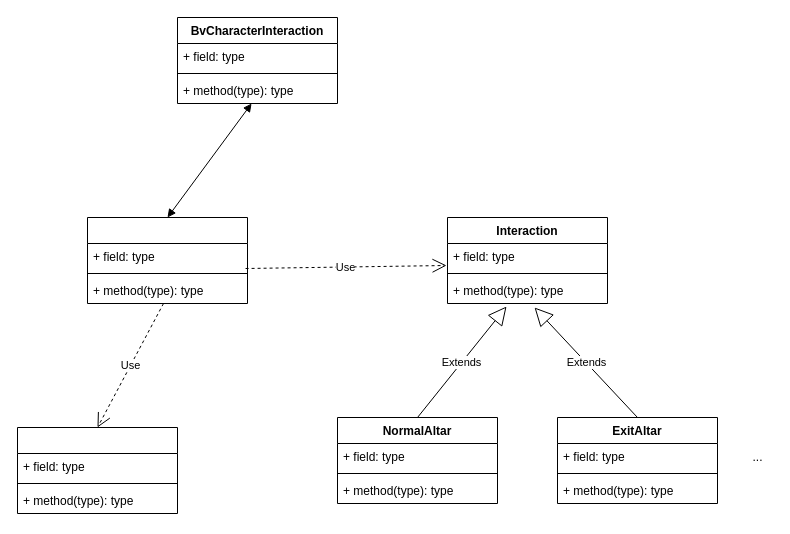
The diagram is 790 pixels wide and 534 high, and some of its shapes have lost their labels. The box of each missing label's shape, as (x1, y1, x2, y2) in pixels:
NetworkController: (86, 216, 248, 304)
UI: (16, 426, 178, 514)
